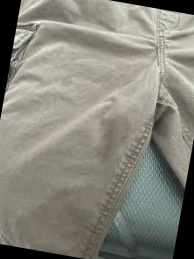oil: (93, 98, 131, 160), (62, 71, 74, 85)
